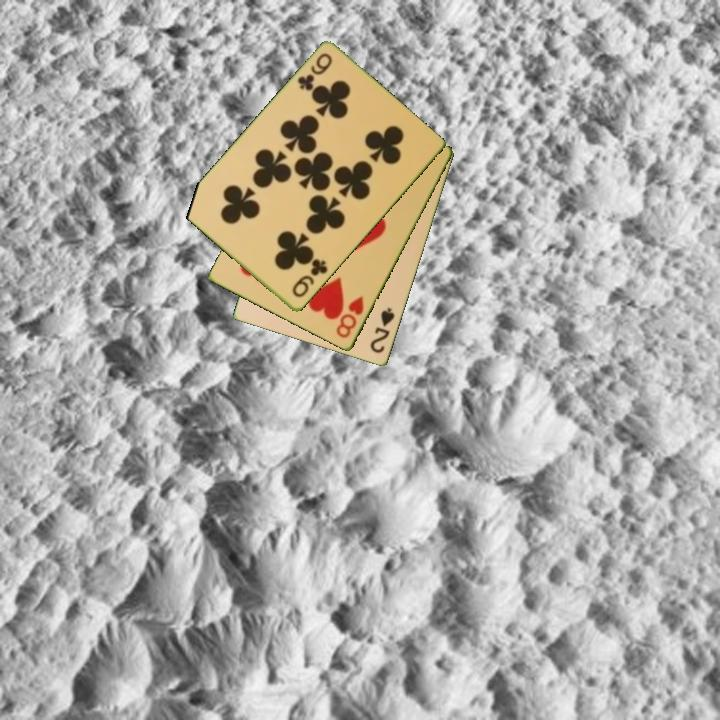2s: (366, 304, 398, 356)
8h: (332, 293, 367, 341)
9c: (288, 256, 331, 301), (294, 50, 335, 95)
